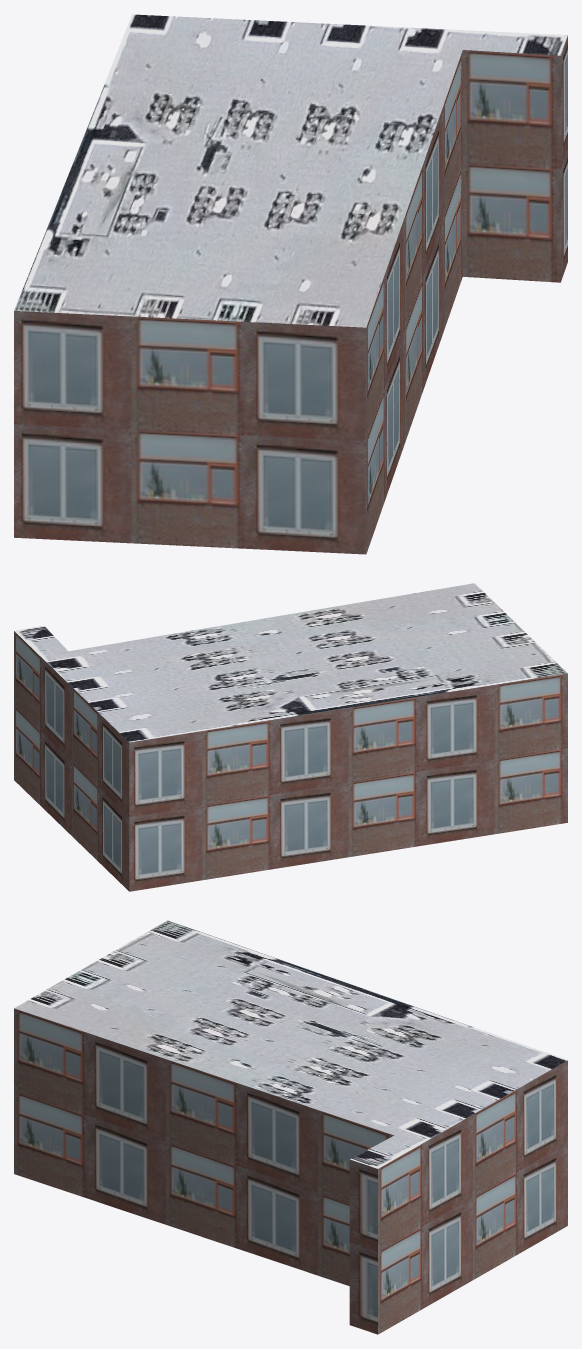
The model's file is ResTex__3219.fbx.
The picture shows the model from 3 angles, top to bottom: view 1: azimuth 30°, elevation 25°; view 2: azimuth 150°, elevation 25°; view 3: azimuth 270°, elevation 25°; orthographic projection. The views are drawn at different scales.
Parts seen in each view (by area): view 1: CityEngineMaterial_19_m, CityEngineMaterial_15_m; view 2: CityEngineMaterial_19_m, CityEngineMaterial_15_m; view 3: CityEngineMaterial_19_m, CityEngineMaterial_15_m.
Boxes of the visible parts, left/top/right/bottom form: CityEngineMaterial_19_m: left=14, top=36, right=567, bottom=554; CityEngineMaterial_15_m: left=14, top=14, right=567, bottom=327; CityEngineMaterial_19_m: left=14, top=631, right=567, bottom=891; CityEngineMaterial_15_m: left=14, top=583, right=567, bottom=742; CityEngineMaterial_19_m: left=14, top=1008, right=567, bottom=1334; CityEngineMaterial_15_m: left=14, top=920, right=567, bottom=1168.
Bounding box in the file's own units: 19.32 × 6 × 18.18.
2 materials, 2 textured.
